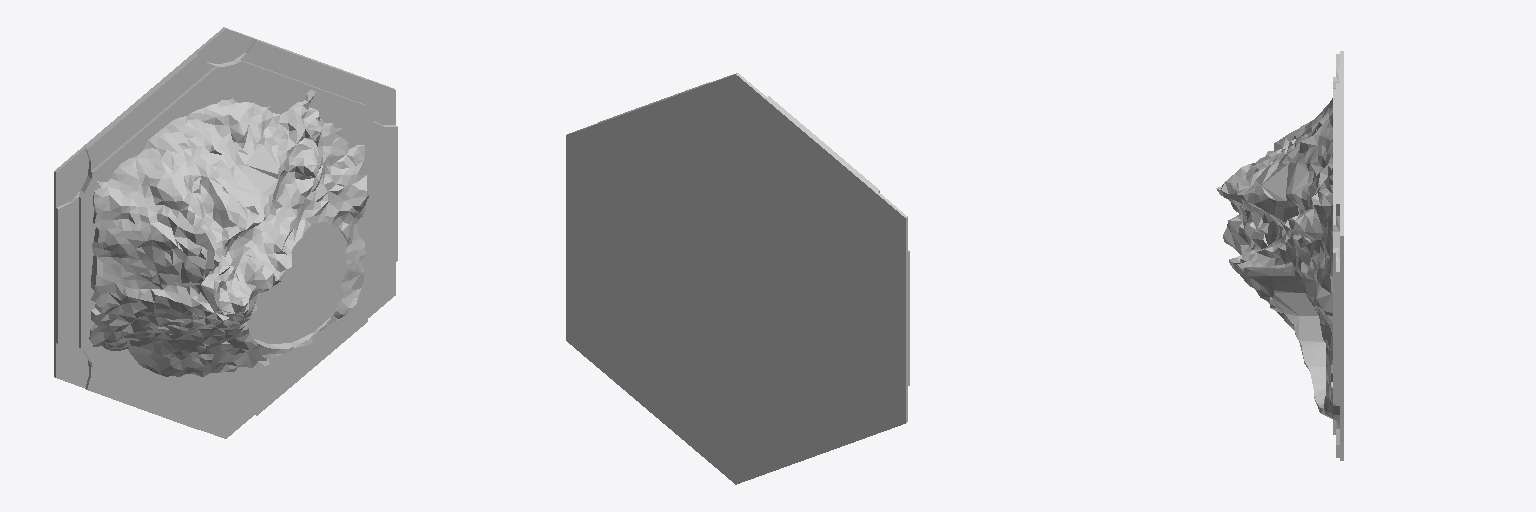
The model's file is Ore1_Ver2_Rev2.obj.
The picture shows the model from 3 angles: view 1: azimuth 30°, elevation 25°; view 2: azimuth 150°, elevation 25°; view 3: azimuth 270°, elevation 25°; orthographic projection.
Parts seen in each view (by area): view 1: <STL_BINARY>; view 2: <STL_BINARY>; view 3: <STL_BINARY>.
Boxes of the visible parts, box(x1,y1,x2,y2) form: <STL_BINARY>: box(54, 27, 397, 438); <STL_BINARY>: box(566, 73, 909, 484); <STL_BINARY>: box(1216, 51, 1343, 460).
Bounding box in the file's own units: 79.07 × 91.31 × 25.92.